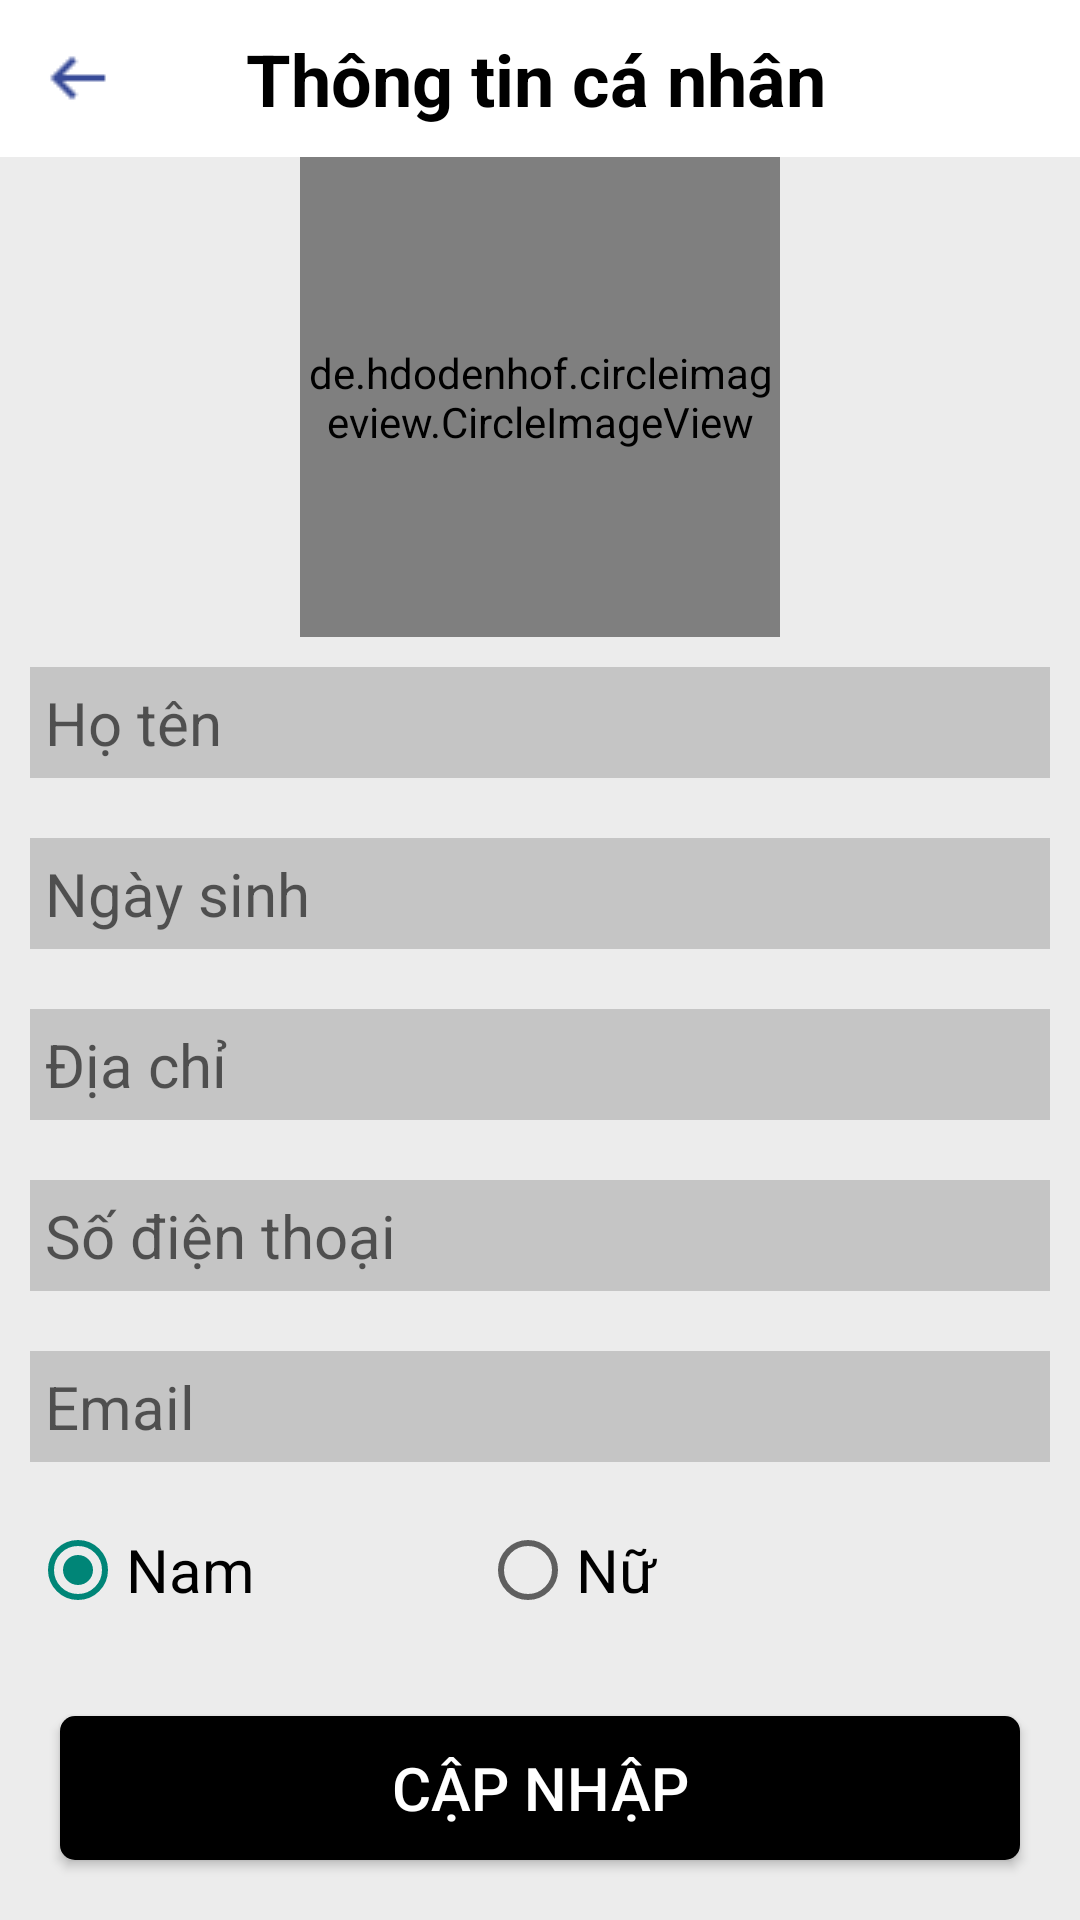

Icon bounding boxes for this 1080*1920 phone screenshot, format (x1, y1, x2, y2):
back: (50, 56, 106, 100)
